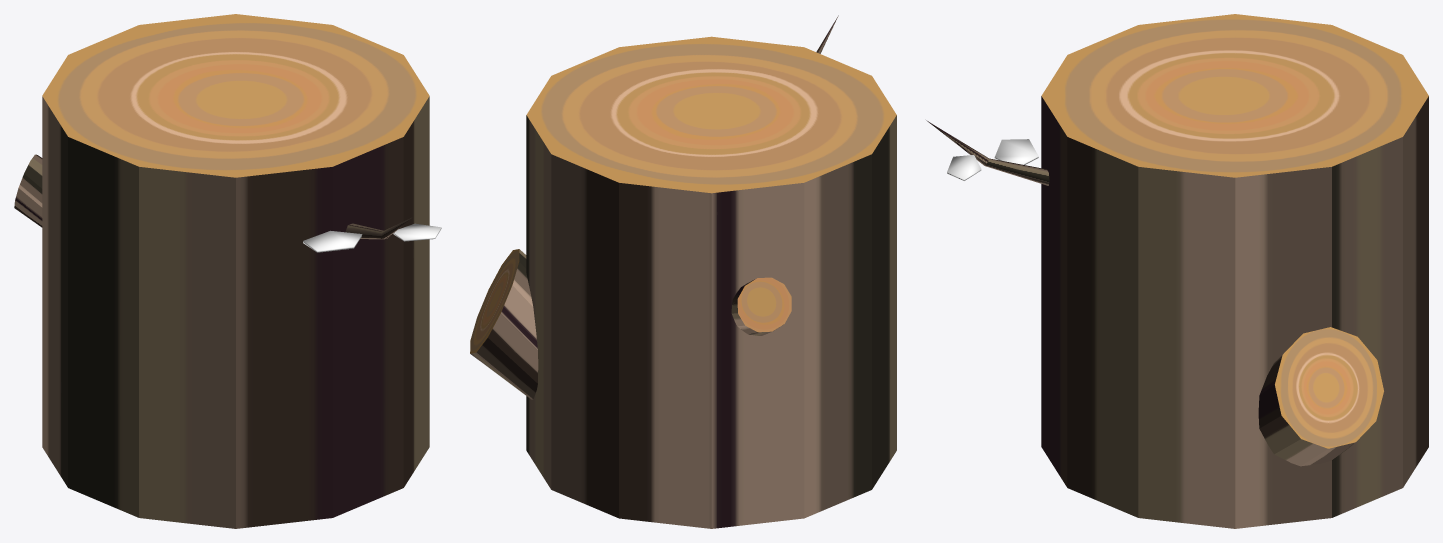
File: log_1x1.obj
3 views of the same model, side by side, from view 1: azimuth 30°, elevation 25°; view 2: azimuth 150°, elevation 25°; view 3: azimuth 270°, elevation 25° (orthographic). The views are drawn at different scales.
Visible parts, largest first — view 1: plat_cyl_12x1:Mesh, Mesh1, polySurface1 fruit1:polySurface1, fruit1:polySurface1 polySurface3, pCone3; view 2: plat_cyl_12x1:Mesh, Mesh, Mesh1; view 3: plat_cyl_12x1:Mesh, Mesh, pCone3, polySurface1 fruit1:polySurface1, fruit1:polySurface1 polySurface3.
Boxes of the visible parts, x1,y1,x2,y2 form: plat_cyl_12x1:Mesh: (42, 14, 429, 528); Mesh1: (14, 154, 42, 227); polySurface1 fruit1:polySurface1: (303, 230, 362, 252); fruit1:polySurface1 polySurface3: (393, 223, 441, 241); pCone3: (345, 217, 411, 239); plat_cyl_12x1:Mesh: (526, 36, 896, 528); Mesh: (470, 249, 538, 399); Mesh1: (731, 277, 791, 335); plat_cyl_12x1:Mesh: (1041, 14, 1428, 528); Mesh: (1258, 327, 1383, 466); pCone3: (926, 120, 1049, 185); polySurface1 fruit1:polySurface1: (994, 139, 1038, 164); fruit1:polySurface1 polySurface3: (947, 155, 981, 180).
Size of the model in its own units: 113 by 100 by 130.
